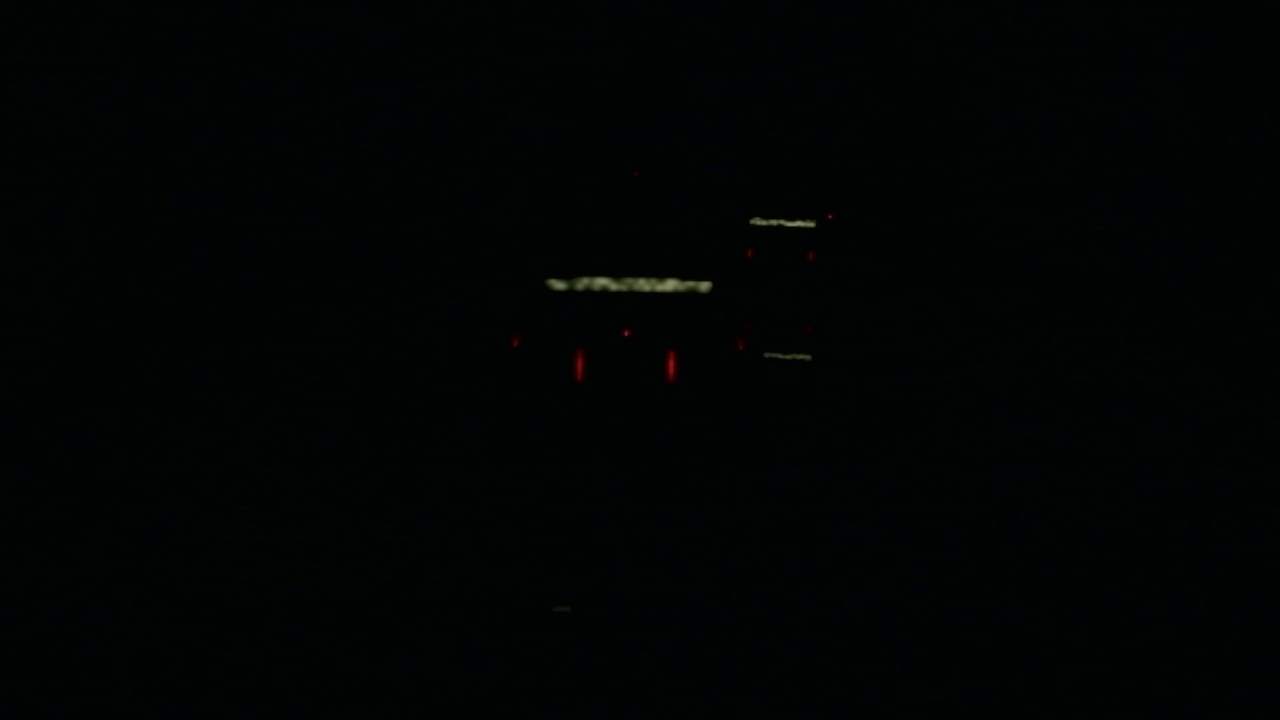lamp: (664, 345, 676, 380), (575, 347, 583, 383)
pair1: (575, 347, 675, 381)
